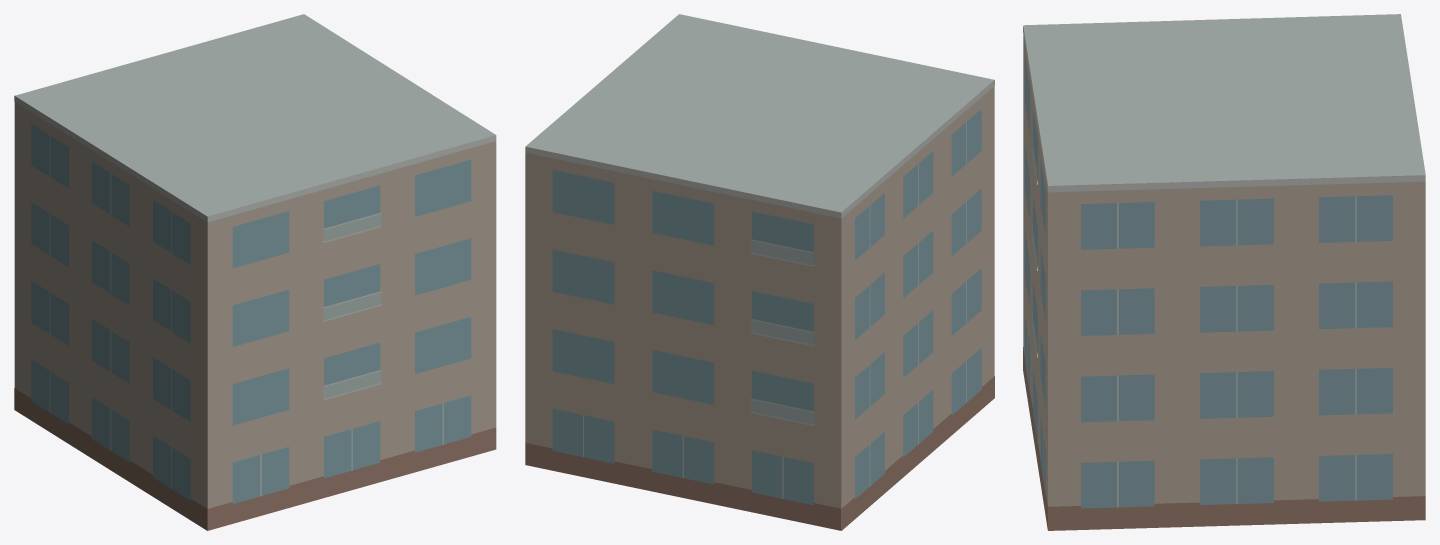
File: survey-upis-32743850.glb
3 views of the same model, side by side, from view 1: azimuth 30°, elevation 25°; view 2: azimuth 150°, elevation 25°; view 3: azimuth 270°, elevation 25° (orthographic). The views are drawn at different scales.
Parts seen in each view (by area): view 1: survey-upis-32743850.tmp; view 2: survey-upis-32743850.tmp; view 3: survey-upis-32743850.tmp.
Part boxes in pixels (x1,y1,x2,y2): survey-upis-32743850.tmp: (14,14,496,530); survey-upis-32743850.tmp: (525,14,994,530); survey-upis-32743850.tmp: (1023,14,1425,530).
Size of the model in its own units: 13.96 by 13.05 by 13.82.
